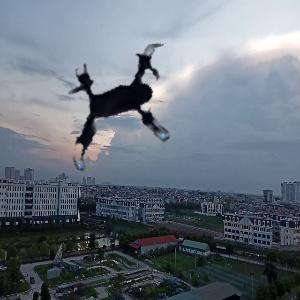drone: (43, 28, 214, 199)
